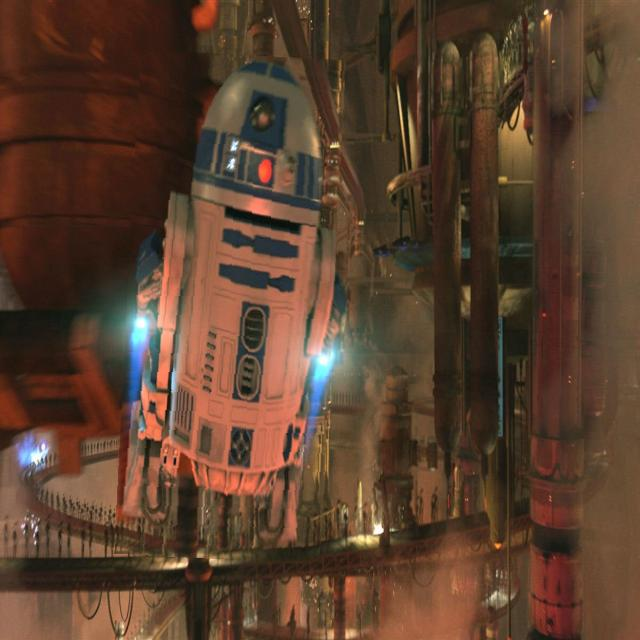r2-d2: (120, 51, 340, 562)
